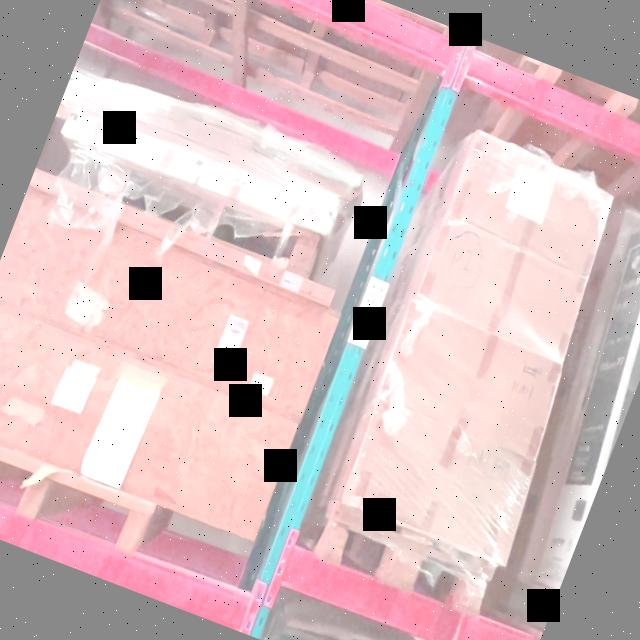box: (342, 404, 536, 562), (378, 306, 562, 452), (416, 222, 588, 356), (448, 144, 613, 266)
